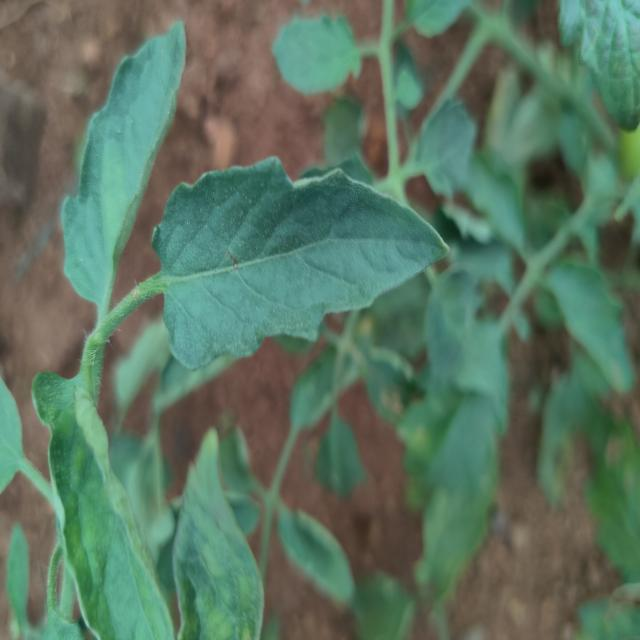tomato_healthy: (152, 156, 446, 369), (32, 373, 173, 640), (61, 20, 185, 323), (172, 428, 263, 640)
